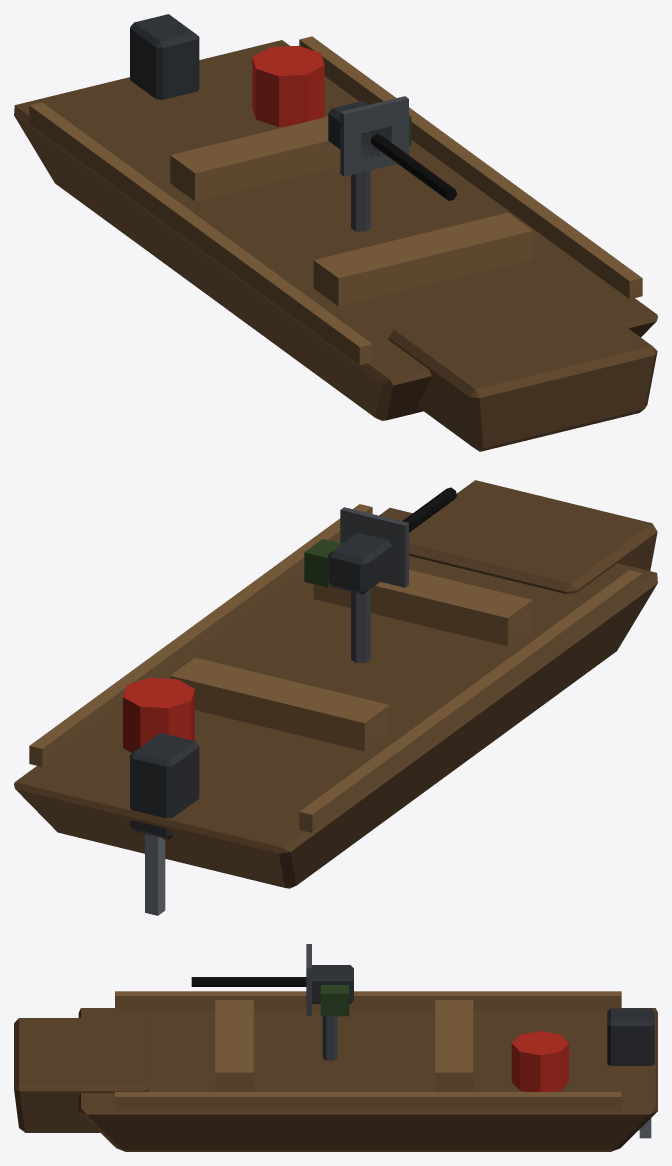
File: env_boat.glb
3 views of the same model, one above another, from view 1: azimuth 30°, elevation 25°; view 2: azimuth 150°, elevation 25°; view 3: azimuth 270°, elevation 25° (orthographic). The views are drawn at different scales.
Visible parts, largest first — view 1: hull, turret; view 2: hull, turret; view 3: hull, turret.
Boxes of the visible parts, x1,y1,x2,y2 form: hull: (14,14,657,451); turret: (328,96,456,200); hull: (14,480,657,915); turret: (304,487,456,594); hull: (14,991,657,1151); turret: (191,944,353,1016).
Bounding box in the file's own units: 2.62 × 2.07 × 6.74.
Materials: 1 (1 with a texture image).
